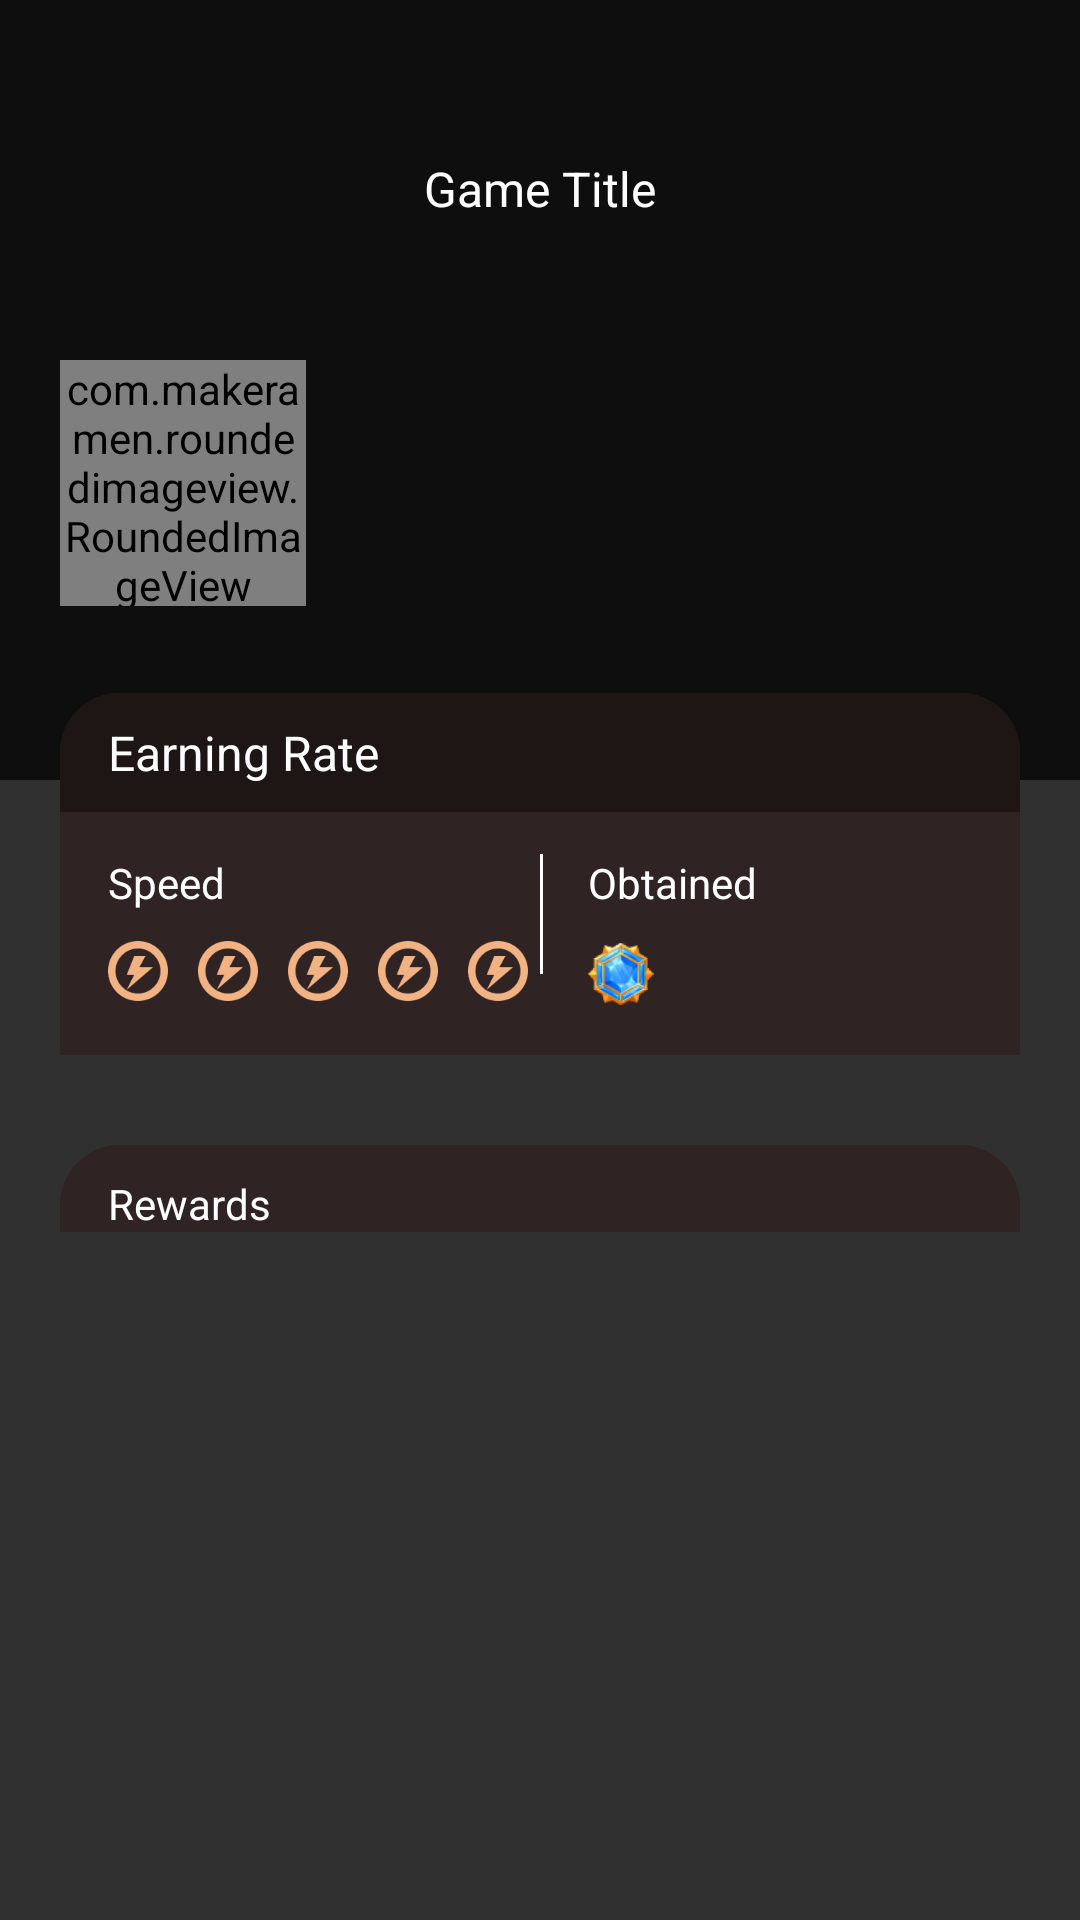

Where icons sit on this 1080*1920 app screen, as (x1, y1, x2, y2):
diamond: (588, 943, 654, 1005)
